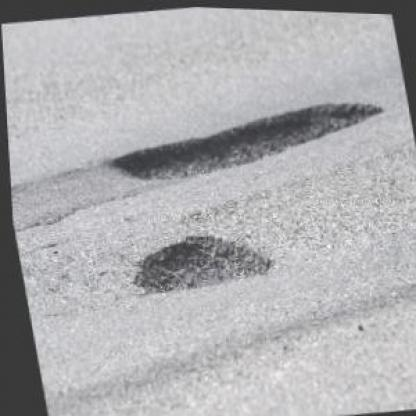pothole: (96, 85, 395, 196), (121, 222, 276, 302)
